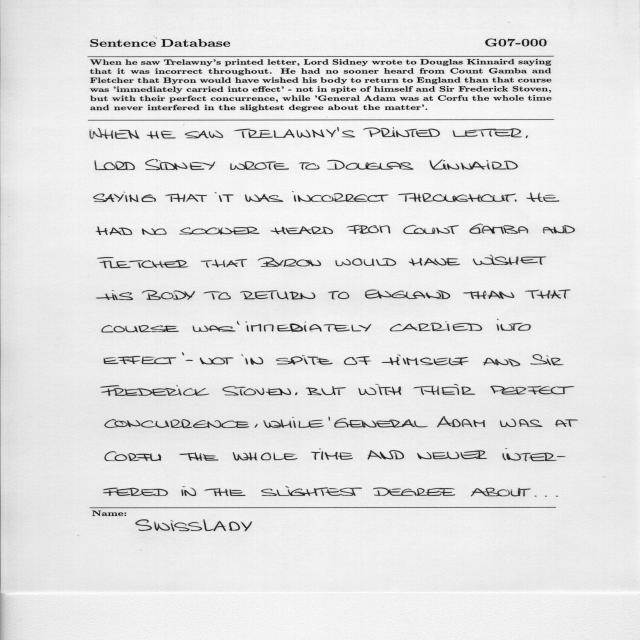word: (433, 451, 566, 462), (246, 321, 372, 332), (234, 127, 355, 138), (105, 419, 249, 428), (101, 385, 210, 396), (292, 191, 389, 202), (398, 193, 516, 202), (261, 486, 362, 496), (98, 257, 189, 268), (429, 159, 518, 170), (382, 355, 469, 366), (390, 322, 482, 332), (327, 160, 414, 170), (334, 418, 428, 427), (363, 127, 440, 137), (145, 159, 215, 170), (365, 290, 450, 299), (490, 386, 574, 395), (373, 487, 455, 496), (473, 255, 546, 265), (241, 291, 316, 300), (414, 384, 475, 395), (263, 417, 324, 428), (179, 227, 260, 235), (93, 192, 156, 202), (258, 257, 321, 267), (453, 129, 522, 138), (222, 386, 291, 395), (102, 325, 179, 333), (470, 224, 529, 234), (104, 356, 176, 364), (276, 355, 333, 365), (105, 451, 161, 461), (90, 128, 140, 139), (230, 161, 289, 170), (142, 290, 195, 300), (437, 417, 485, 428), (233, 453, 298, 461), (103, 488, 168, 496), (271, 227, 334, 235), (403, 225, 459, 234), (311, 448, 353, 460), (336, 258, 397, 266), (359, 384, 402, 395), (496, 319, 531, 331), (525, 290, 571, 299), (409, 258, 460, 266), (463, 291, 514, 299), (530, 354, 564, 366), (95, 161, 135, 171), (347, 225, 391, 234), (96, 290, 133, 300), (201, 259, 247, 267), (306, 386, 346, 395), (368, 450, 404, 460), (180, 452, 219, 461), (526, 192, 560, 202), (165, 194, 207, 202), (500, 419, 542, 427), (204, 488, 246, 496), (96, 226, 132, 235), (511, 488, 547, 497), (471, 488, 510, 496), (185, 131, 223, 139), (245, 194, 283, 202), (193, 325, 236, 332), (483, 358, 520, 366), (543, 226, 575, 234), (203, 291, 231, 300), (344, 356, 371, 365), (147, 131, 176, 139), (200, 358, 233, 365), (242, 355, 264, 365), (215, 192, 234, 202), (555, 419, 578, 427), (142, 228, 167, 235), (299, 162, 320, 170), (328, 291, 349, 299), (182, 486, 196, 496), (417, 452, 432, 459), (237, 321, 240, 325), (255, 424, 258, 428), (182, 352, 184, 356), (328, 417, 330, 421), (186, 360, 193, 361), (526, 136, 528, 139), (515, 199, 517, 202), (295, 392, 297, 395)
